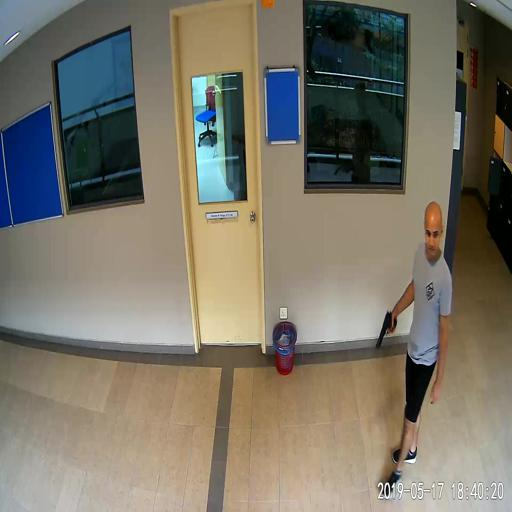pistol: (376, 310, 396, 347)
